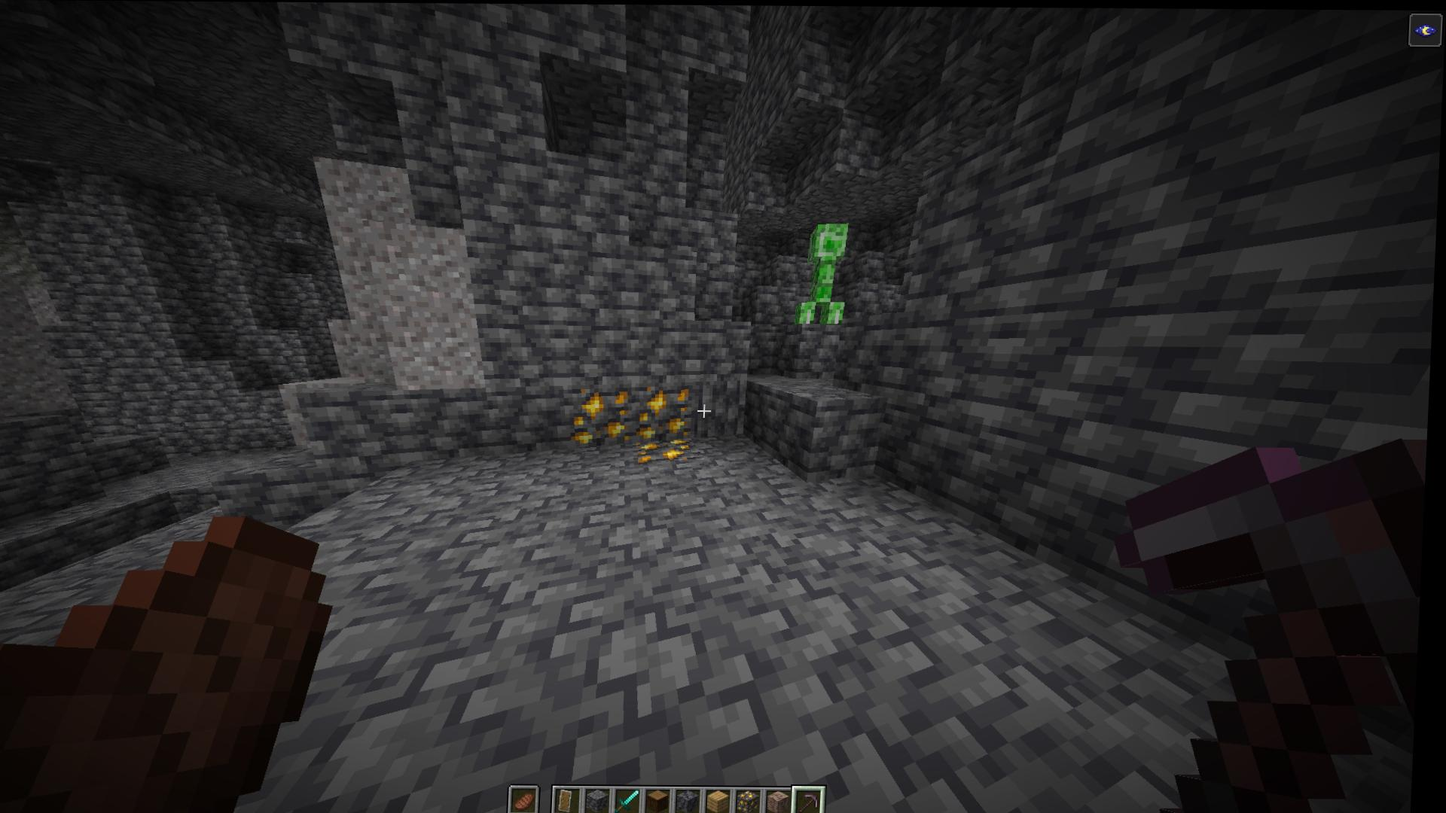gold ore: (629, 384, 695, 446), (571, 388, 635, 449), (638, 439, 697, 466)
